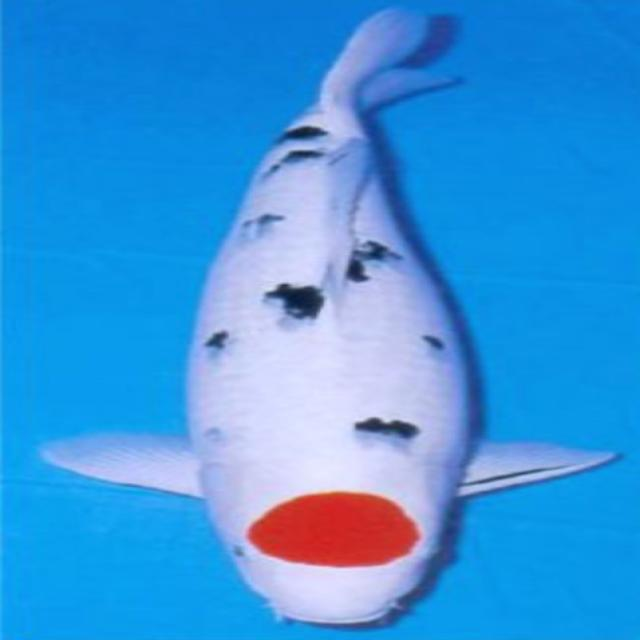Sanke: (37, 4, 620, 630)
